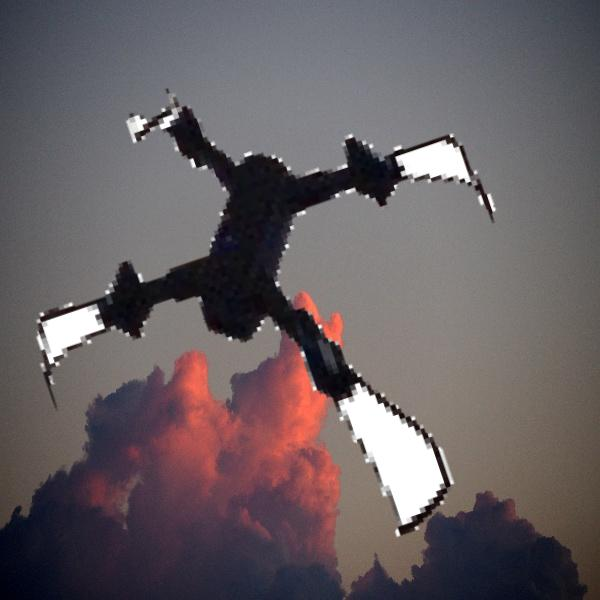drone: (15, 49, 548, 582)
